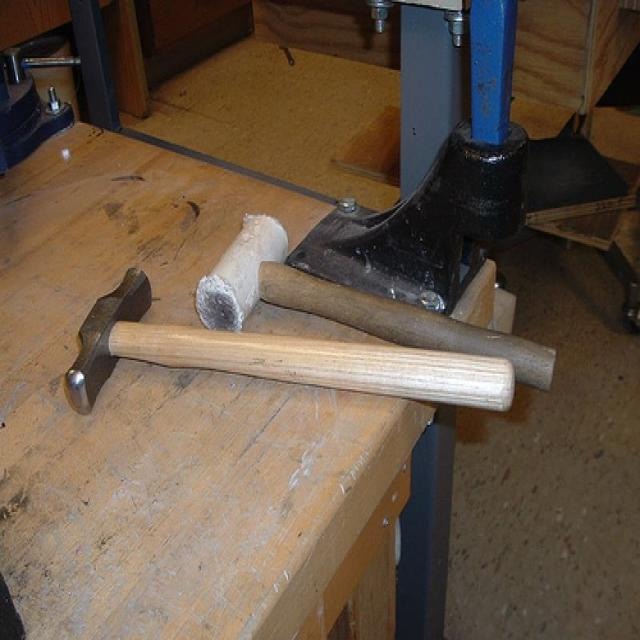hammer: (60, 256, 519, 465), (190, 204, 548, 402)
